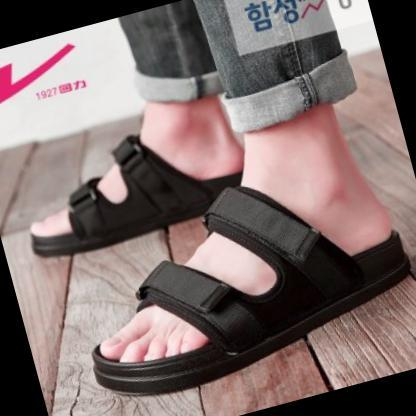no_safety-shoe: (56, 183, 415, 415), (20, 106, 267, 256)
